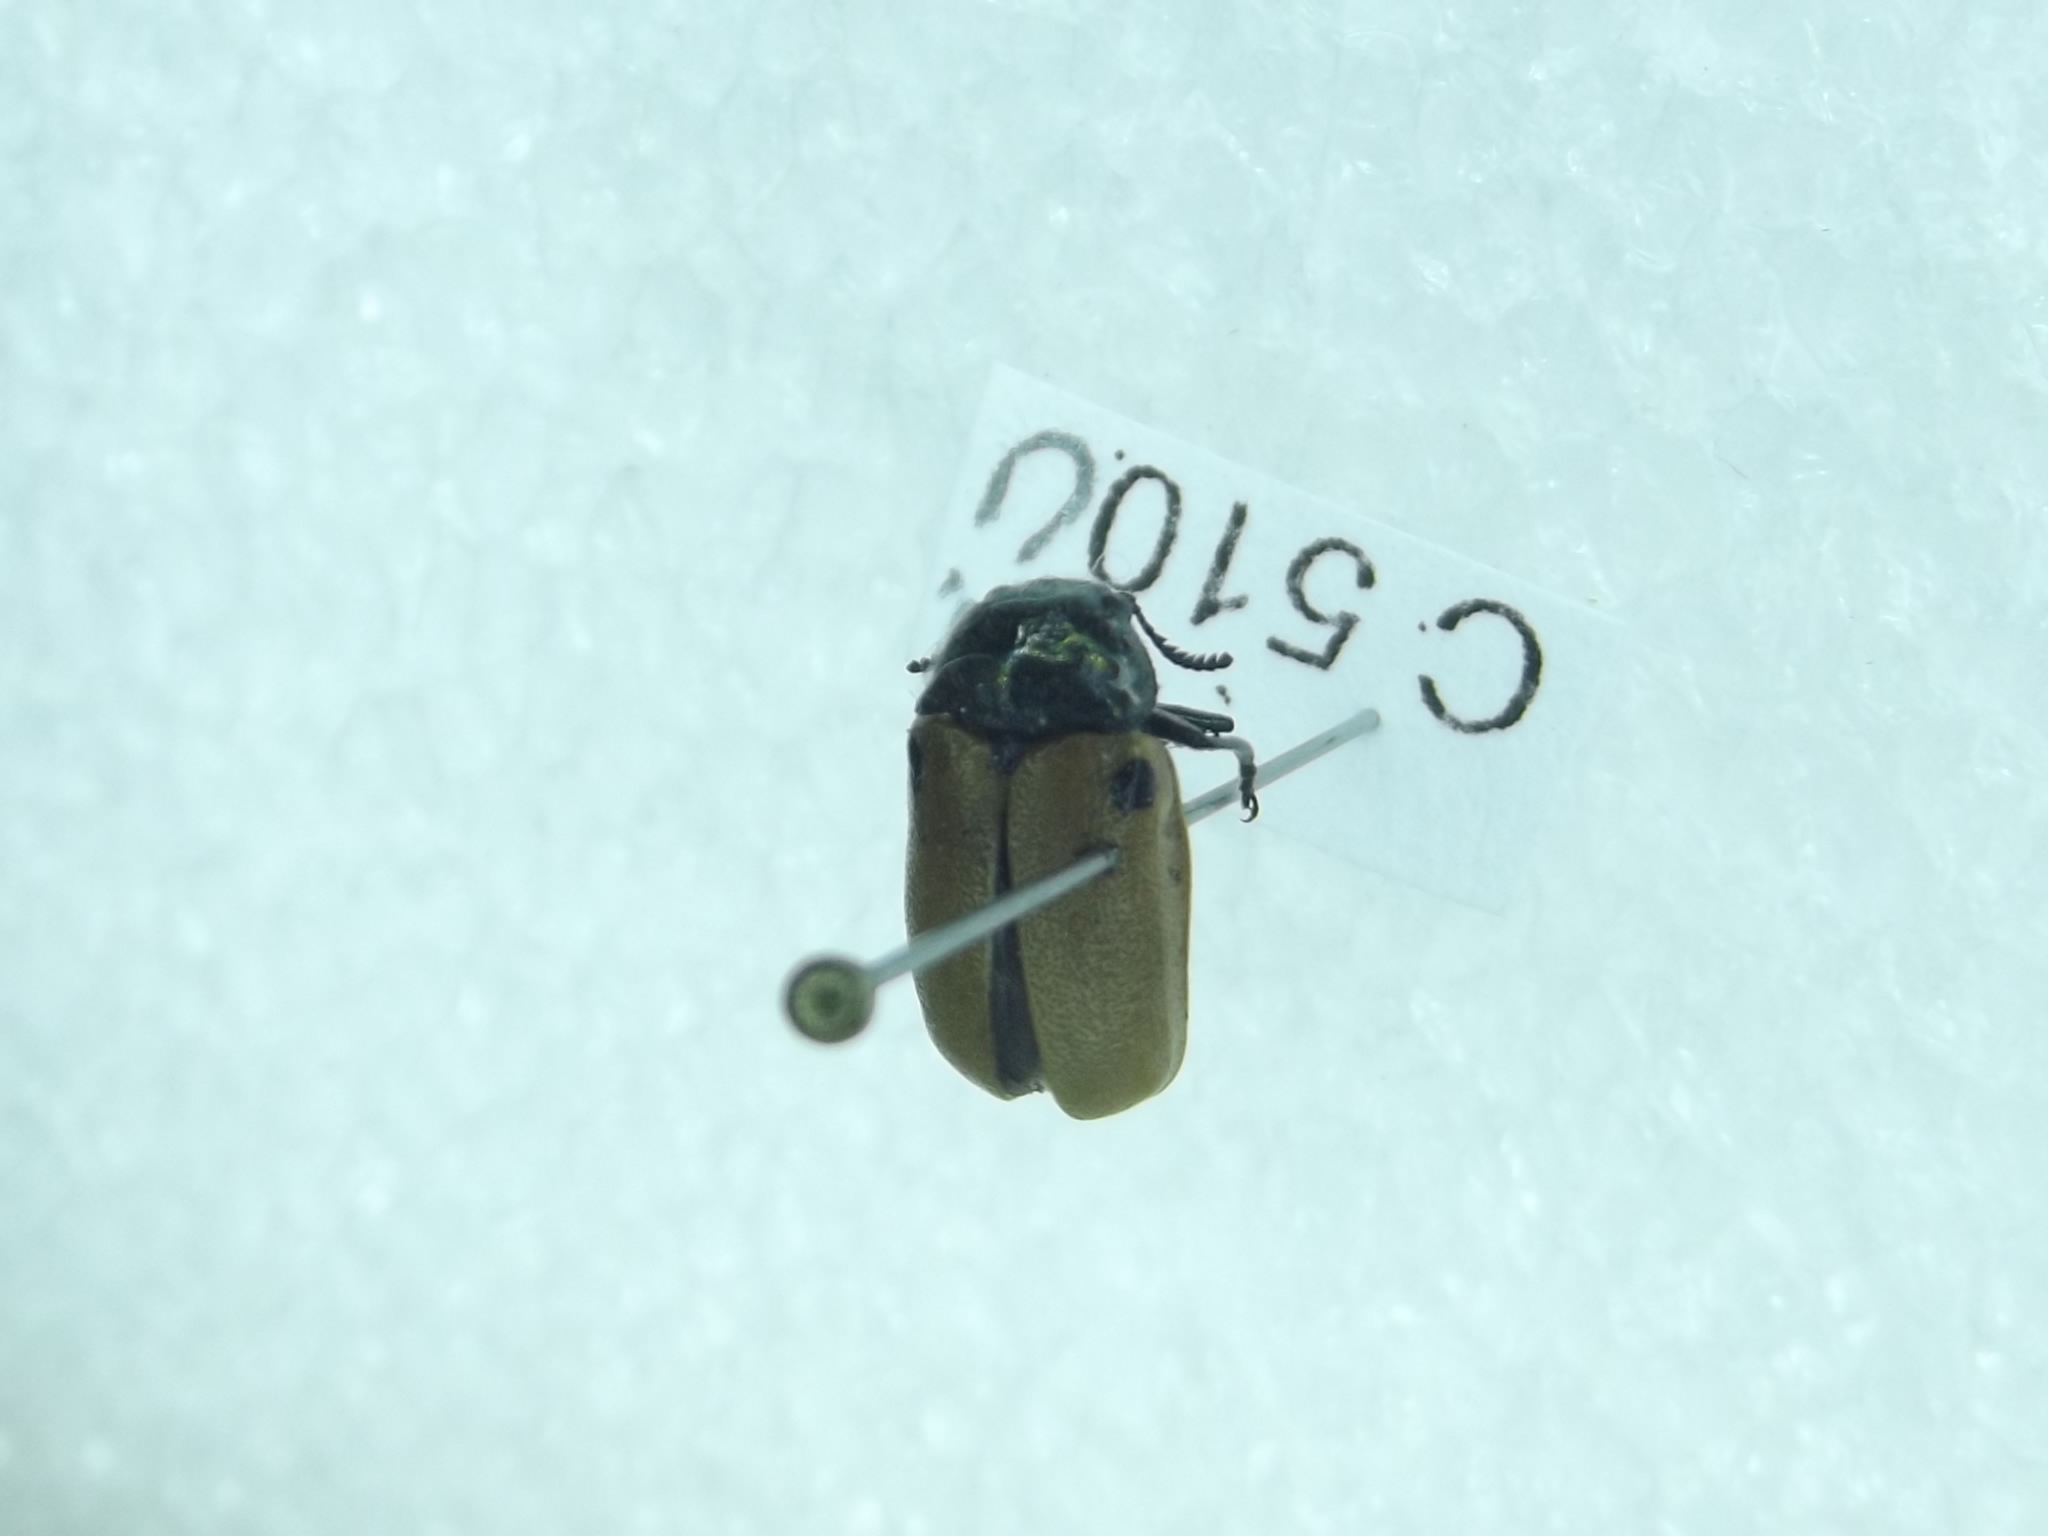Labidostomis_longimana: (897, 574, 1290, 1123)
